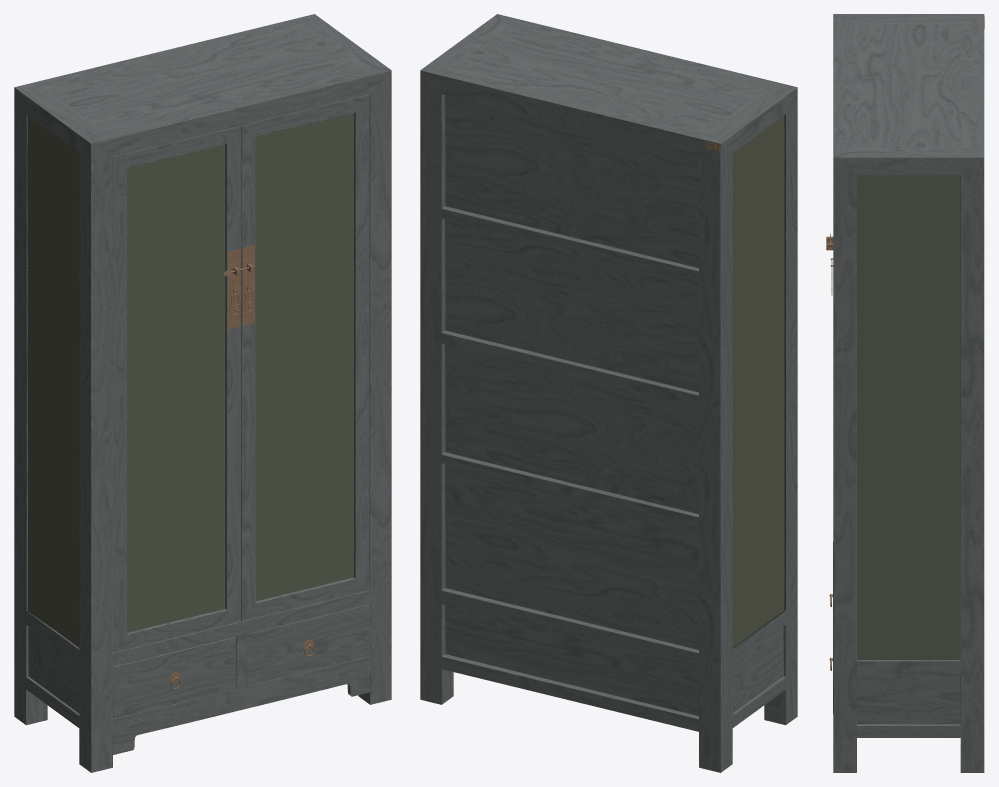
Rendered from glass_cabinet_greywash.gltf.
3 renders of one model, left to right at view 1: azimuth 30°, elevation 25°; view 2: azimuth 150°, elevation 25°; view 3: azimuth 270°, elevation 25°, orthographic. The views are drawn at different scales.
Parts seen in each view (by area): view 1: main (×2); view 2: main (×2); view 3: main (×2).
Boxes of the visible parts, left/top/right/bottom form: main (×2): left=14, top=14, right=391, bottom=772; main (×2): left=420, top=14, right=797, bottom=772; main (×2): left=826, top=14, right=984, bottom=772.
Size of the model in its own units: 0.9008 by 1.8 by 0.4196.
Materials: 2 (2 with a texture image).
